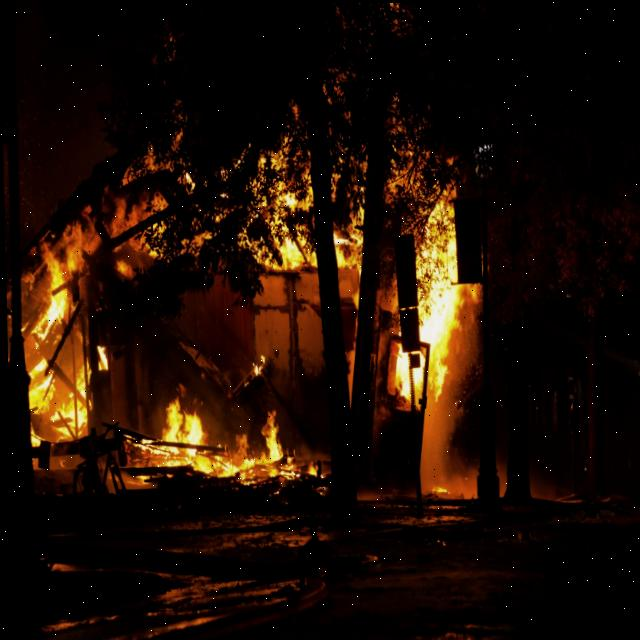fire: (22, 82, 524, 521)
